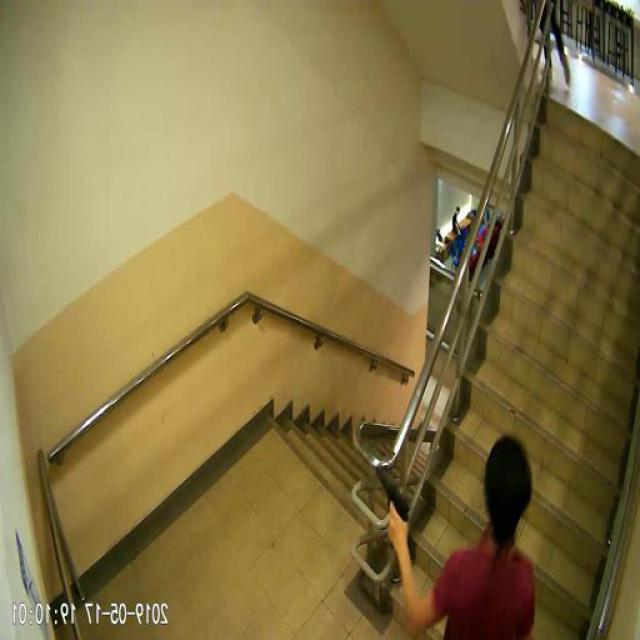Gun: (378, 460, 410, 530)
